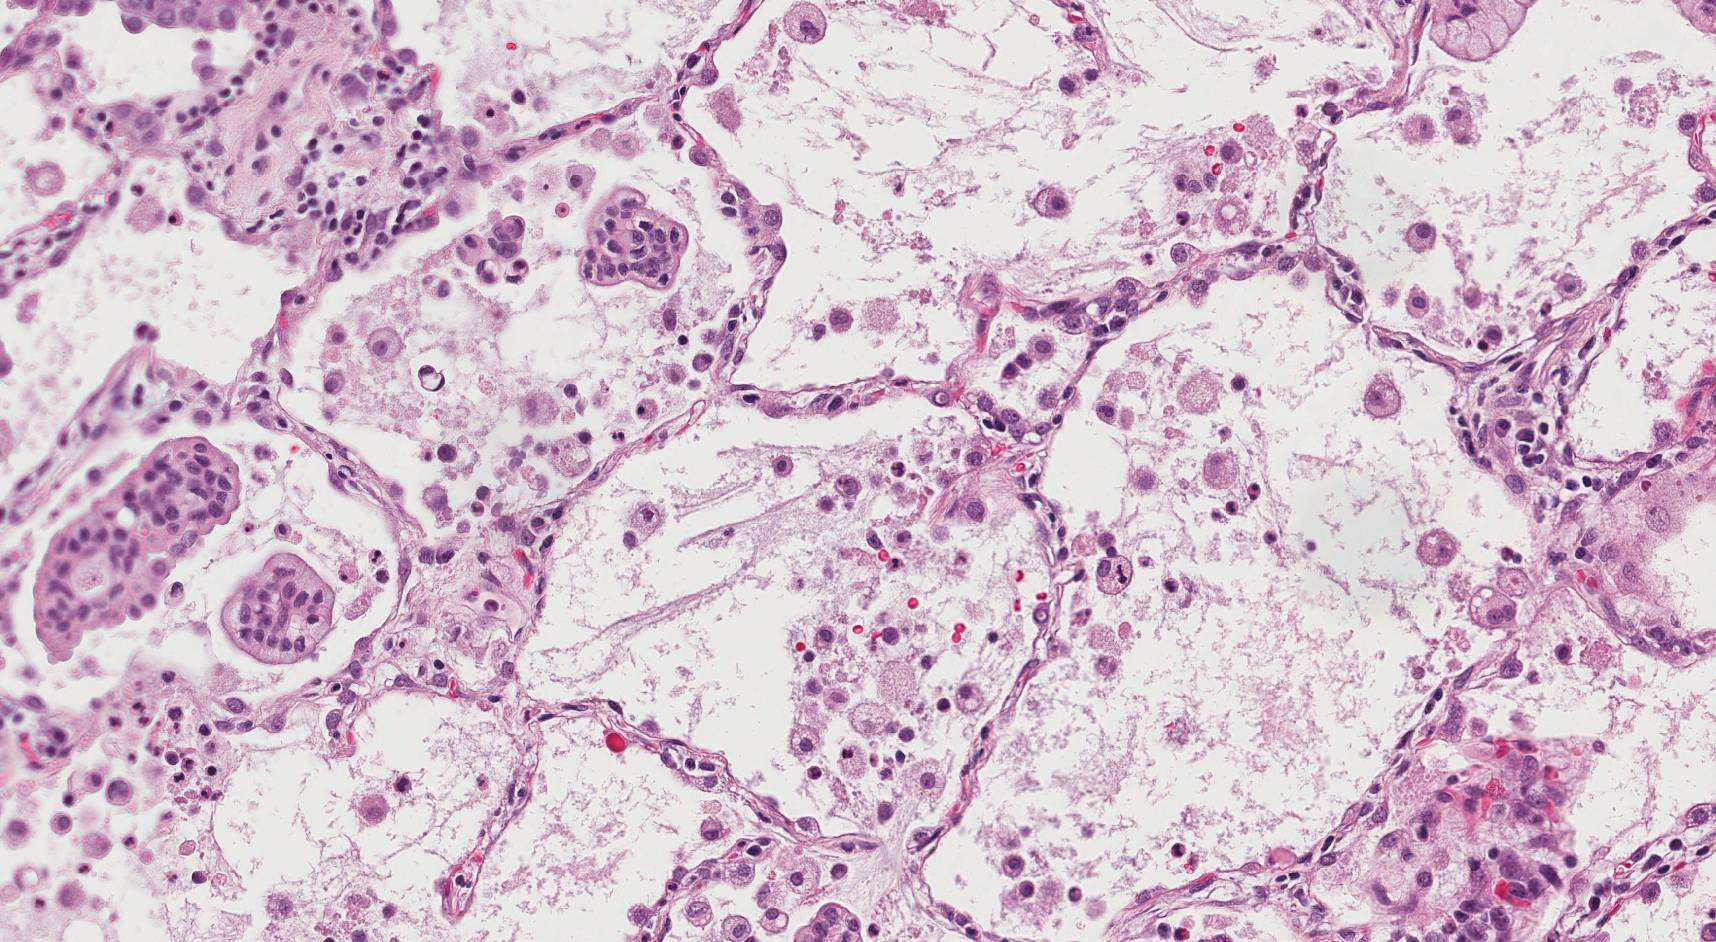stas: (32, 439, 243, 665), (223, 554, 335, 666), (576, 188, 687, 293), (455, 216, 531, 289)
